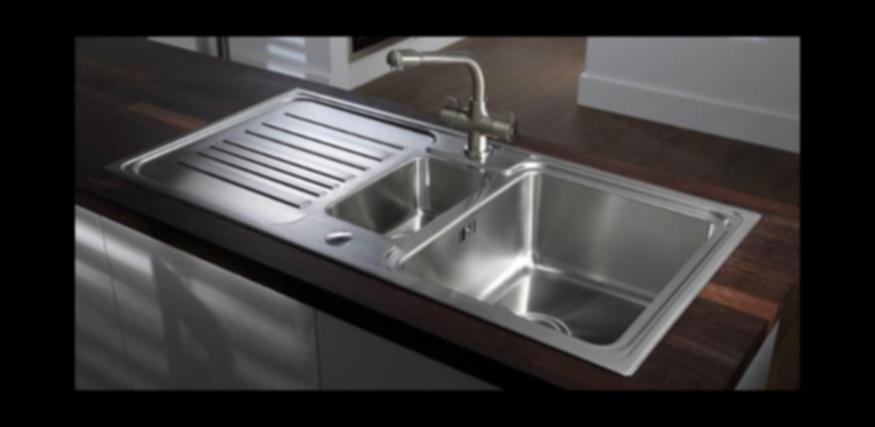Lavaplatos: (123, 51, 760, 369)
